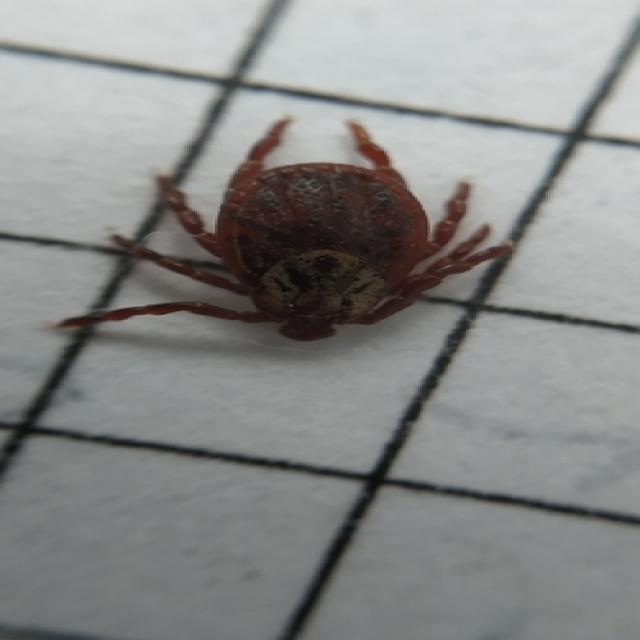Dermacentor Reticulatus-F: (54, 115, 512, 343)
